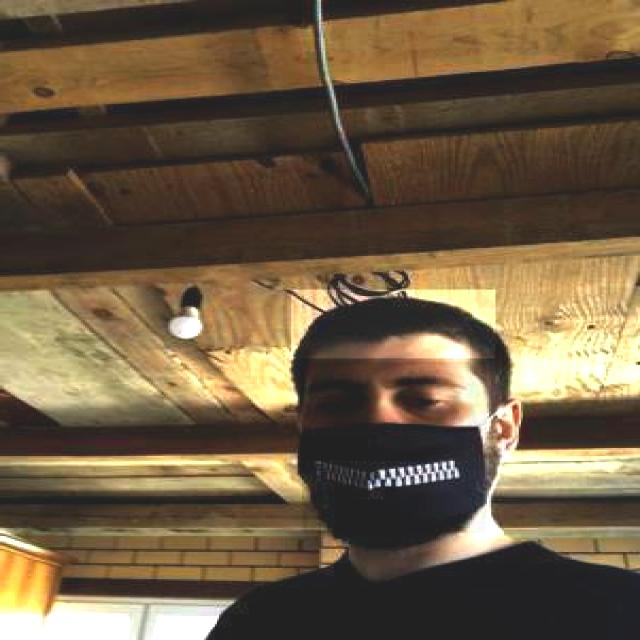face_mask: (300, 362, 487, 534)
head_nohelmet: (290, 290, 496, 360)
